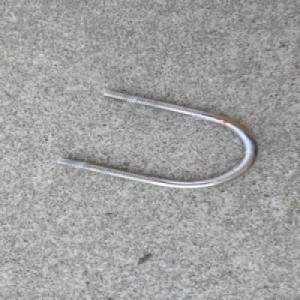ClampPart: (54, 87, 260, 190)
